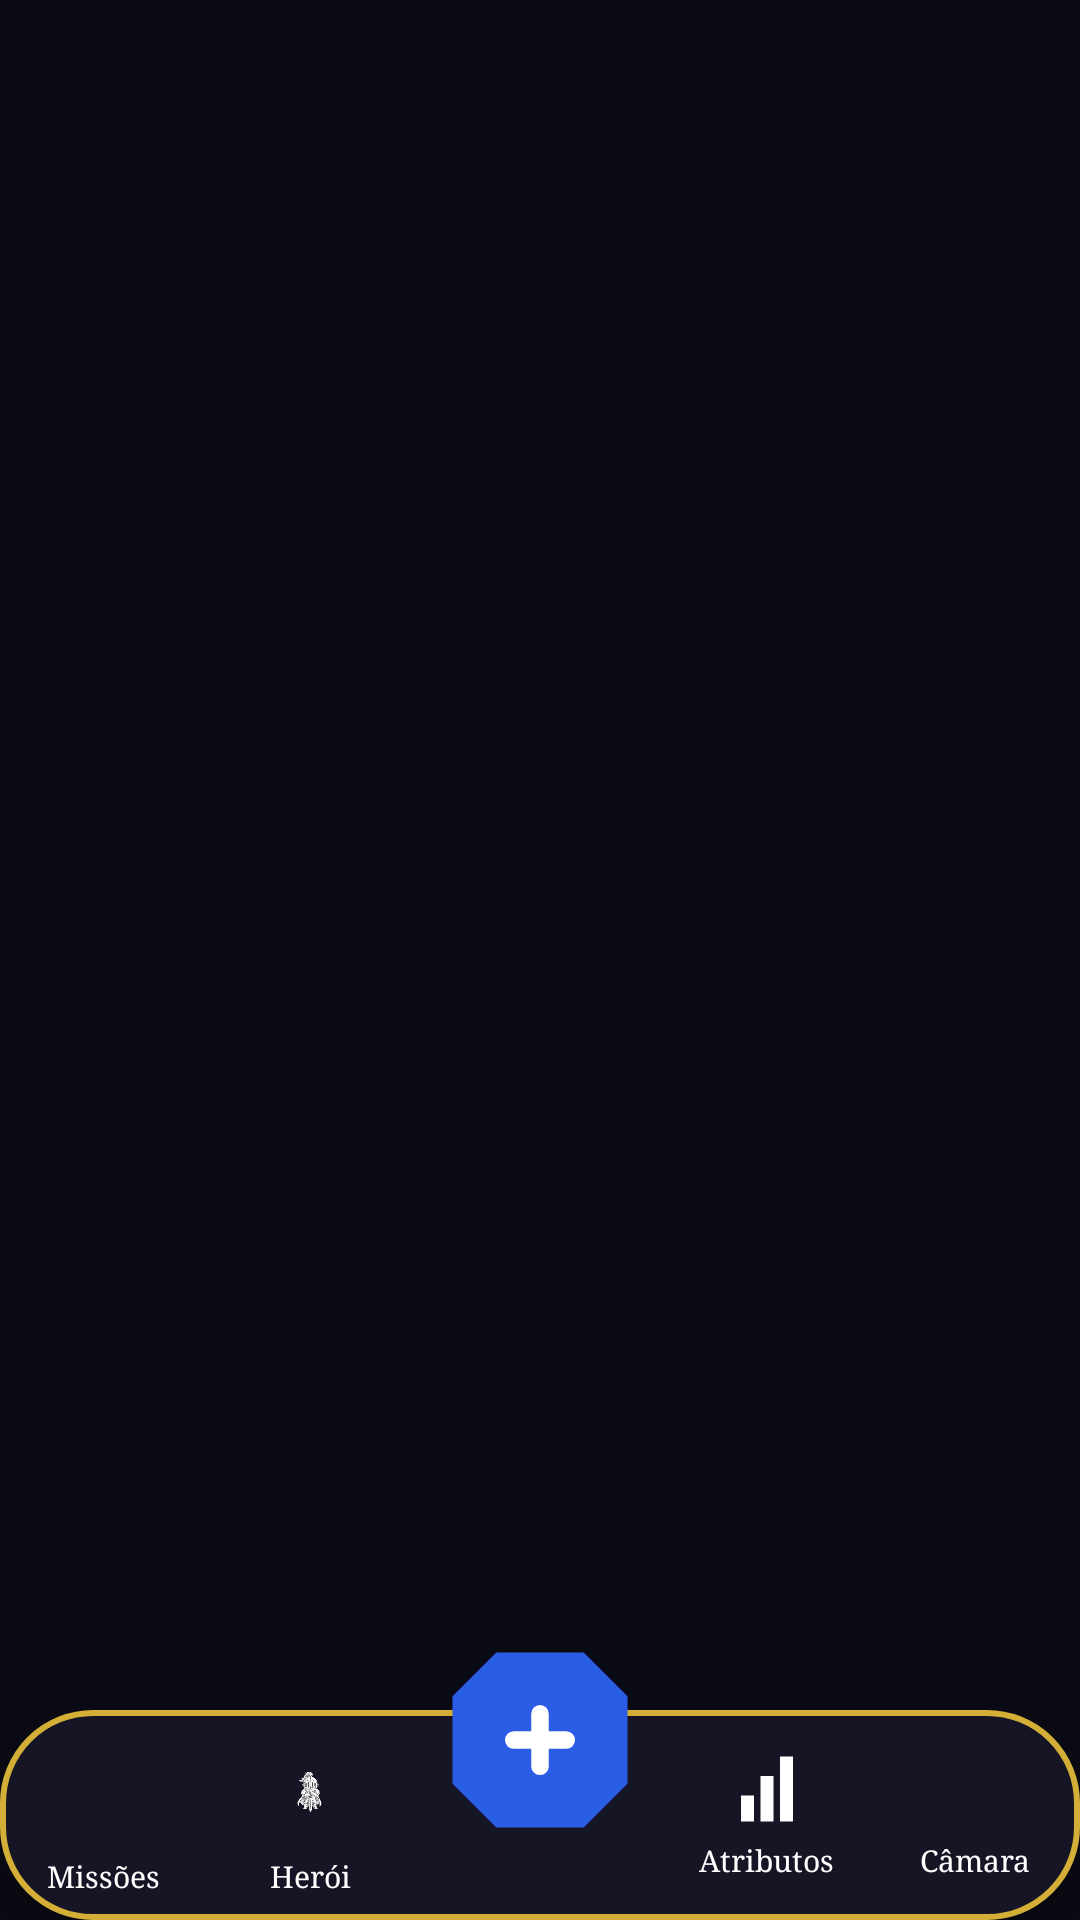

Icons on this 1080*1920 Android screen, each with its box as [x1,y1,x2,y2]:
iconeperfil: [297,1772,322,1812]
